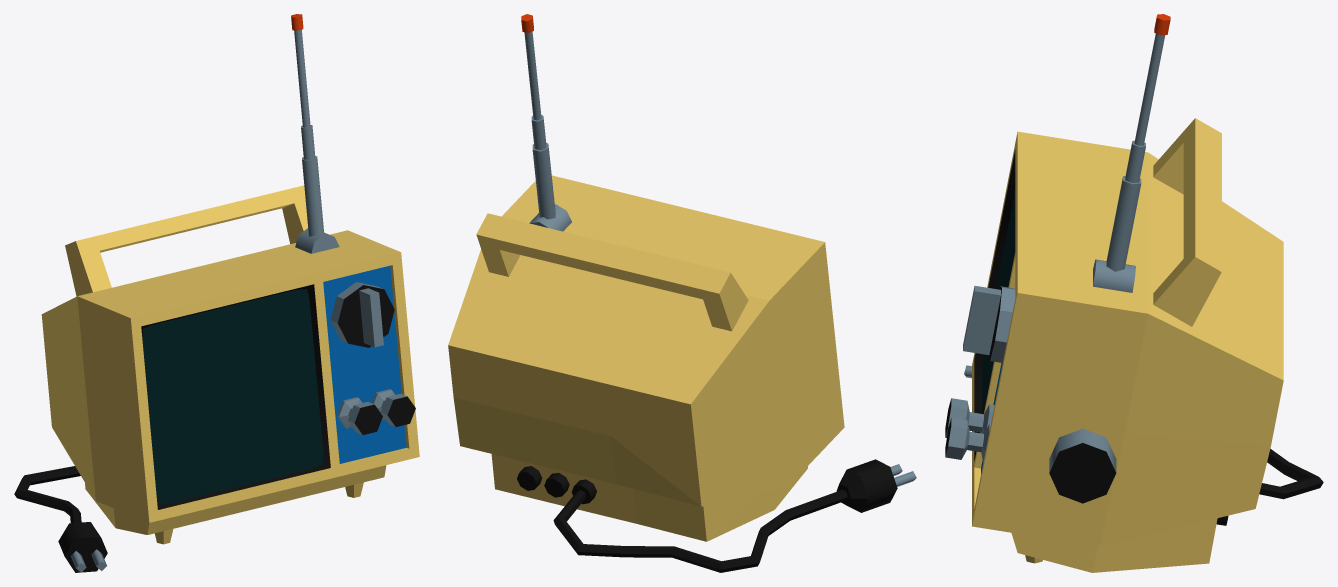
The model's file is Asset_Electronic_TV.fbx.
The picture shows the model from 3 angles, left to right: view 1: azimuth 30°, elevation 25°; view 2: azimuth 150°, elevation 25°; view 3: azimuth 270°, elevation 25°; orthographic projection. The views are drawn at different scales.
Visible parts, largest first — view 1: Box10783, Plane016, Box10786, Cylinder501, Line170, Cylinder451, Cylinder452, Cylinder450; view 2: Box10783, Box10786, Line170, Cylinder501, Cylinder451, Cylinder452; view 3: Box10783, Box10786, Cylinder455, Cylinder451, Line170, Plane016, Cylinder452, Cylinder450, Cylinder454.
Part boxes in pixels (bbox=[...]): Box10783: bbox=[41, 230, 419, 544]; Plane016: bbox=[142, 289, 323, 503]; Box10786: bbox=[65, 185, 324, 296]; Cylinder501: bbox=[58, 522, 107, 572]; Line170: bbox=[14, 466, 81, 523]; Cylinder451: bbox=[302, 156, 323, 236]; Cylinder452: bbox=[294, 29, 310, 127]; Cylinder450: bbox=[295, 228, 339, 253]; Box10783: bbox=[448, 175, 844, 541]; Box10786: bbox=[476, 213, 748, 331]; Line170: bbox=[553, 489, 847, 572]; Cylinder501: bbox=[836, 459, 916, 512]; Cylinder451: bbox=[532, 143, 555, 219]; Cylinder452: bbox=[524, 31, 541, 120]; Box10783: bbox=[945, 131, 1283, 572]; Box10786: bbox=[1153, 118, 1221, 326]; Cylinder455: bbox=[1049, 428, 1116, 503]; Cylinder451: bbox=[1106, 176, 1141, 271]; Line170: bbox=[1259, 449, 1323, 499]; Plane016: bbox=[982, 191, 1015, 414]; Cylinder452: bbox=[1134, 33, 1165, 145]; Cylinder450: bbox=[1093, 259, 1135, 292]; Cylinder454: bbox=[1125, 140, 1145, 182].
Bounding box in the file's own units: 76.89 × 89.43 × 56.41.
